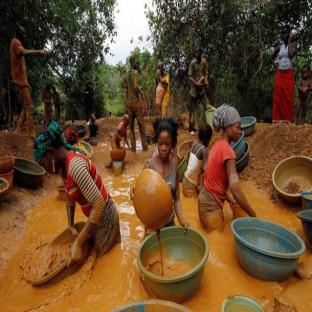Person: (31, 128, 119, 261), (132, 115, 184, 225), (211, 104, 247, 251), (6, 17, 51, 131), (265, 16, 296, 133), (118, 54, 148, 151), (187, 111, 212, 213), (179, 40, 216, 103), (152, 56, 175, 114), (43, 75, 58, 124)
